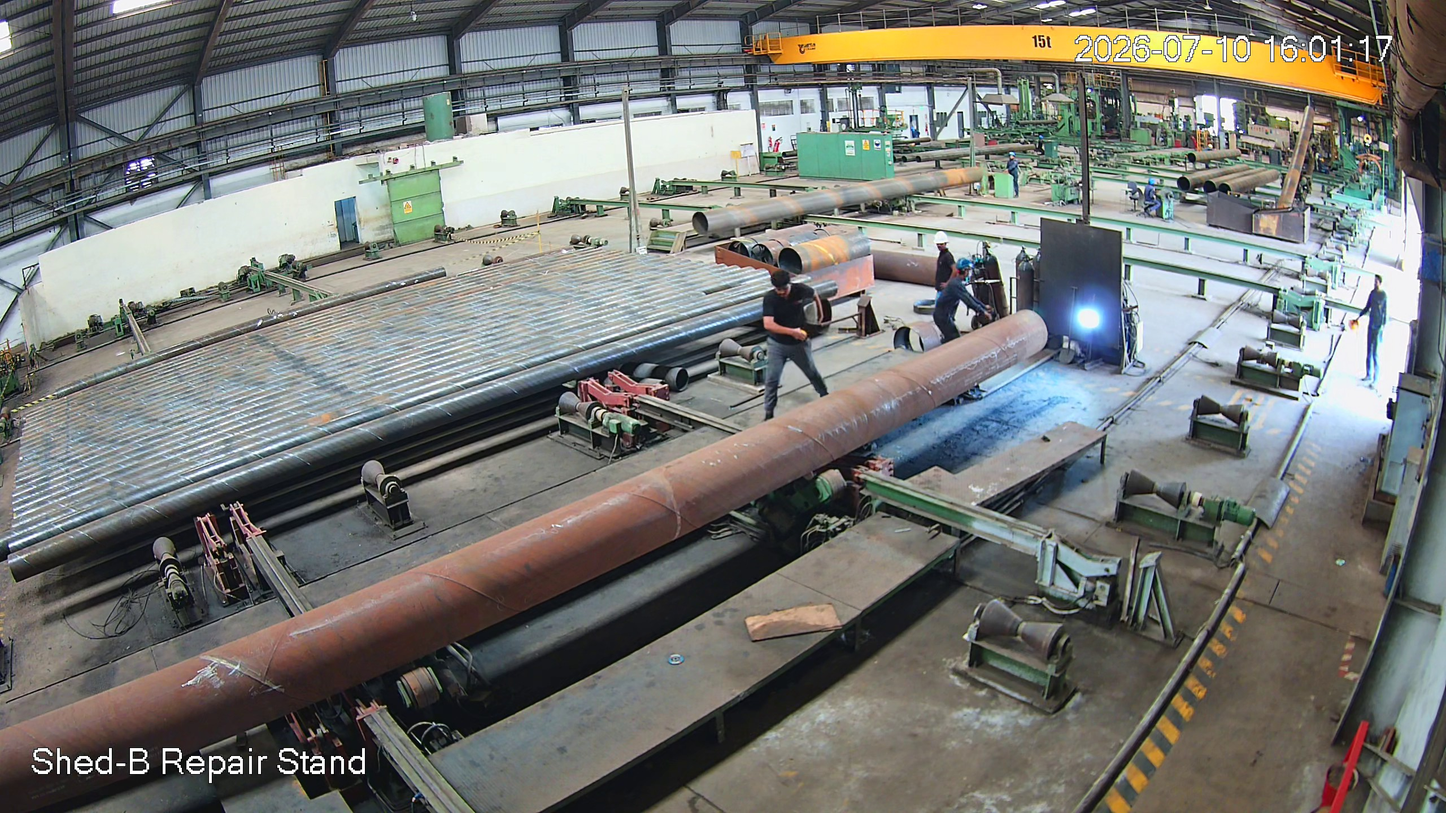Helmet: (954, 256, 984, 300), (928, 224, 959, 262)
Person: (758, 273, 845, 418), (1347, 270, 1392, 392), (935, 259, 975, 357), (927, 228, 961, 332)
